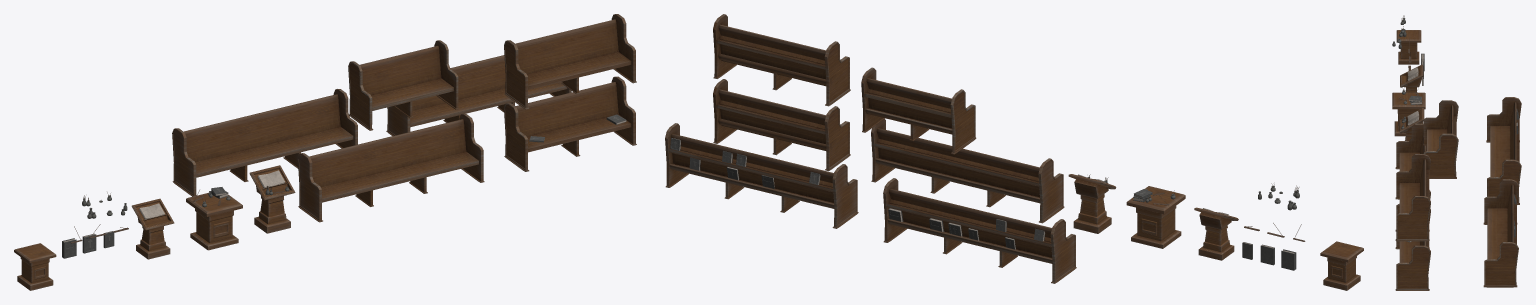
Rendered from Church_Props_1A1.fbx.
The picture shows the model from 3 angles, left to right: view 1: azimuth 30°, elevation 25°; view 2: azimuth 150°, elevation 25°; view 3: azimuth 270°, elevation 25°; orthographic projection. The views are drawn at different scales.
Parts seen in each view (by area): view 1: Chapel_Bench_A1, Chapel_Bench_A3, Chapel_Bench_B1, Chapel_Bench_B2, Chapel_Bench_C1, Chapel_Bench_A2, Podium_B2, Podium_A2, Podium_A1, Podium_B1; view 2: Chapel_Bench_A2, Chapel_Bench_A3, Chapel_Bench_A1, Chapel_Bench_B2, Chapel_Bench_B1, Chapel_Bench_C1, Podium_B2, Podium_A2, Podium_B1, Podium_A1; view 3: Chapel_Bench_A2, Chapel_Bench_A3, Chapel_Bench_B1, Chapel_Bench_C1, Chapel_Bench_B2, Chapel_Bench_A1, Podium_B2, Podium_B1, Podium_A1, Podium_A2.
Part boxes in pixels (x1,y1,x2,y2): Chapel_Bench_A1: [297, 113, 484, 222]; Chapel_Bench_A3: [172, 89, 357, 196]; Chapel_Bench_B1: [504, 14, 636, 109]; Chapel_Bench_B2: [504, 76, 636, 171]; Chapel_Bench_C1: [348, 40, 459, 130]; Chapel_Bench_A2: [386, 55, 571, 135]; Podium_B2: [186, 187, 242, 250]; Podium_A2: [249, 165, 295, 233]; Podium_A1: [131, 198, 174, 259]; Podium_B1: [14, 243, 56, 290]; Chapel_Bench_A2: [665, 123, 858, 228]; Chapel_Bench_A3: [883, 178, 1076, 283]; Chapel_Bench_A1: [871, 119, 1064, 223]; Chapel_Bench_B2: [713, 79, 850, 170]; Chapel_Bench_B1: [713, 14, 850, 106]; Chapel_Bench_C1: [861, 67, 976, 154]; Podium_B2: [1126, 186, 1185, 248]; Podium_A2: [1068, 174, 1116, 233]; Podium_B1: [1320, 241, 1363, 290]; Podium_A1: [1194, 207, 1238, 260]; Chapel_Bench_A2: [1483, 179, 1518, 287]; Chapel_Bench_A3: [1486, 97, 1521, 204]; Chapel_Bench_B1: [1395, 154, 1430, 241]; Chapel_Bench_C1: [1423, 100, 1458, 178]; Chapel_Bench_B2: [1395, 209, 1430, 290]; Chapel_Bench_A1: [1395, 123, 1430, 231]; Podium_B2: [1392, 86, 1425, 136]; Podium_B1: [1396, 30, 1421, 64]; Podium_A1: [1400, 64, 1423, 92]; Podium_A2: [1399, 108, 1424, 140].
Bounding box in the file's own units: 2032 × 384 × 471.
